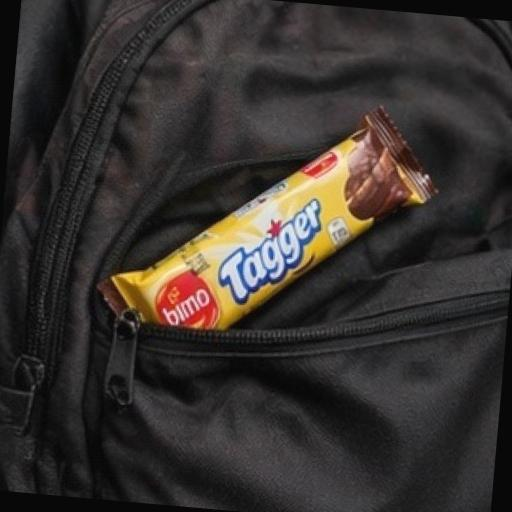tagger: (88, 77, 482, 438)
